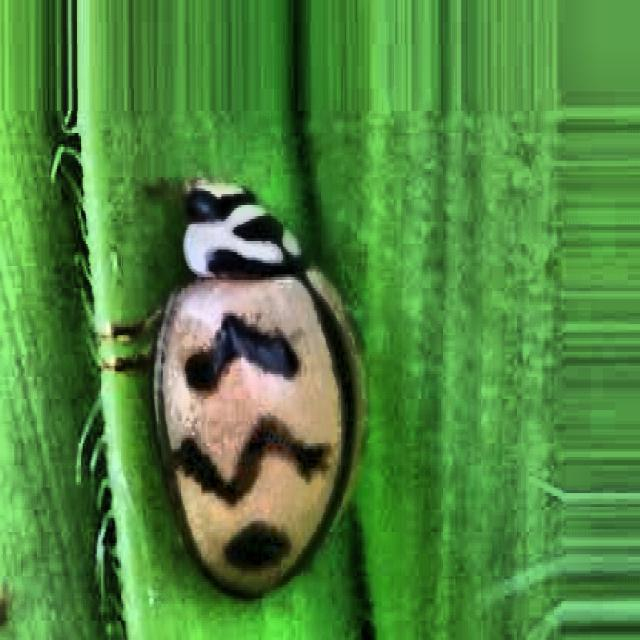Asian-Lady-beetle: (68, 84, 420, 640)
